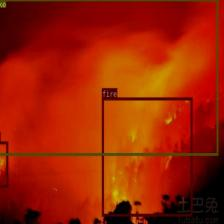fire: (102, 97, 192, 216), (0, 141, 8, 187)
smoke: (0, 0, 218, 155)
